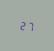seven: (26, 19, 32, 31)
two: (19, 19, 25, 30)
